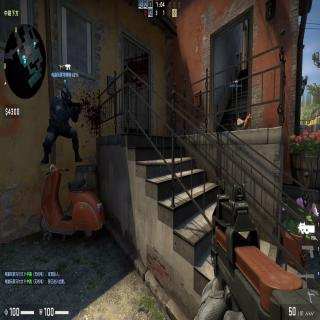CT-Body: (41, 85, 83, 162)
CT-Head: (61, 86, 72, 106)
